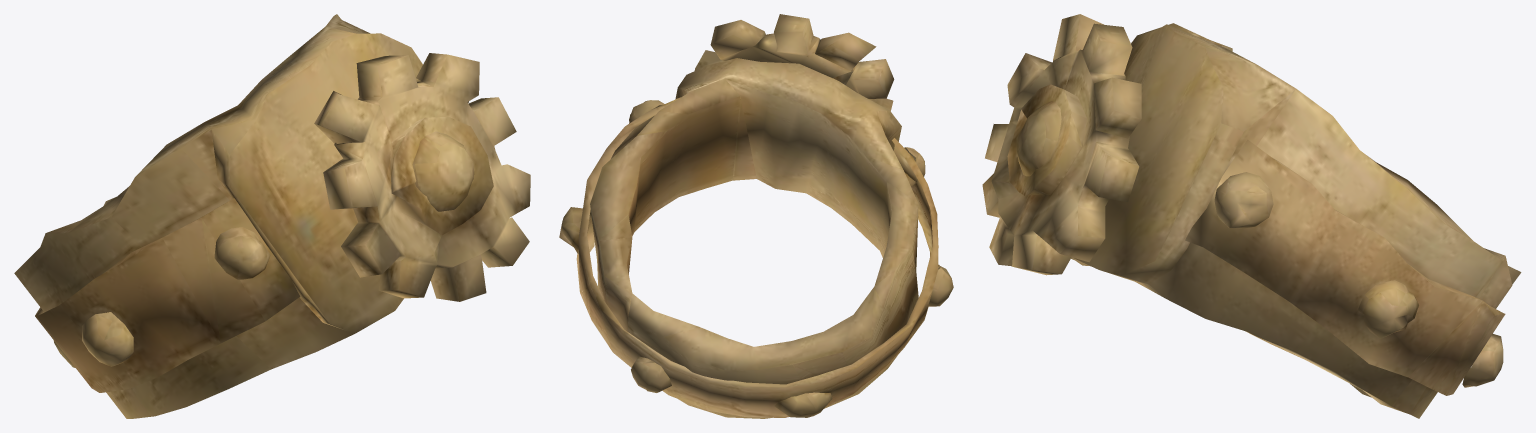
File: acc_gear_ring.glb
3 views of the same model, side by side, from view 1: azimuth 30°, elevation 25°; view 2: azimuth 150°, elevation 25°; view 3: azimuth 270°, elevation 25° (orthographic). The views are drawn at different scales.
Size of the model in its own units: 0.105 by 0.0957 by 0.1157.
1 material, 1 textured.
